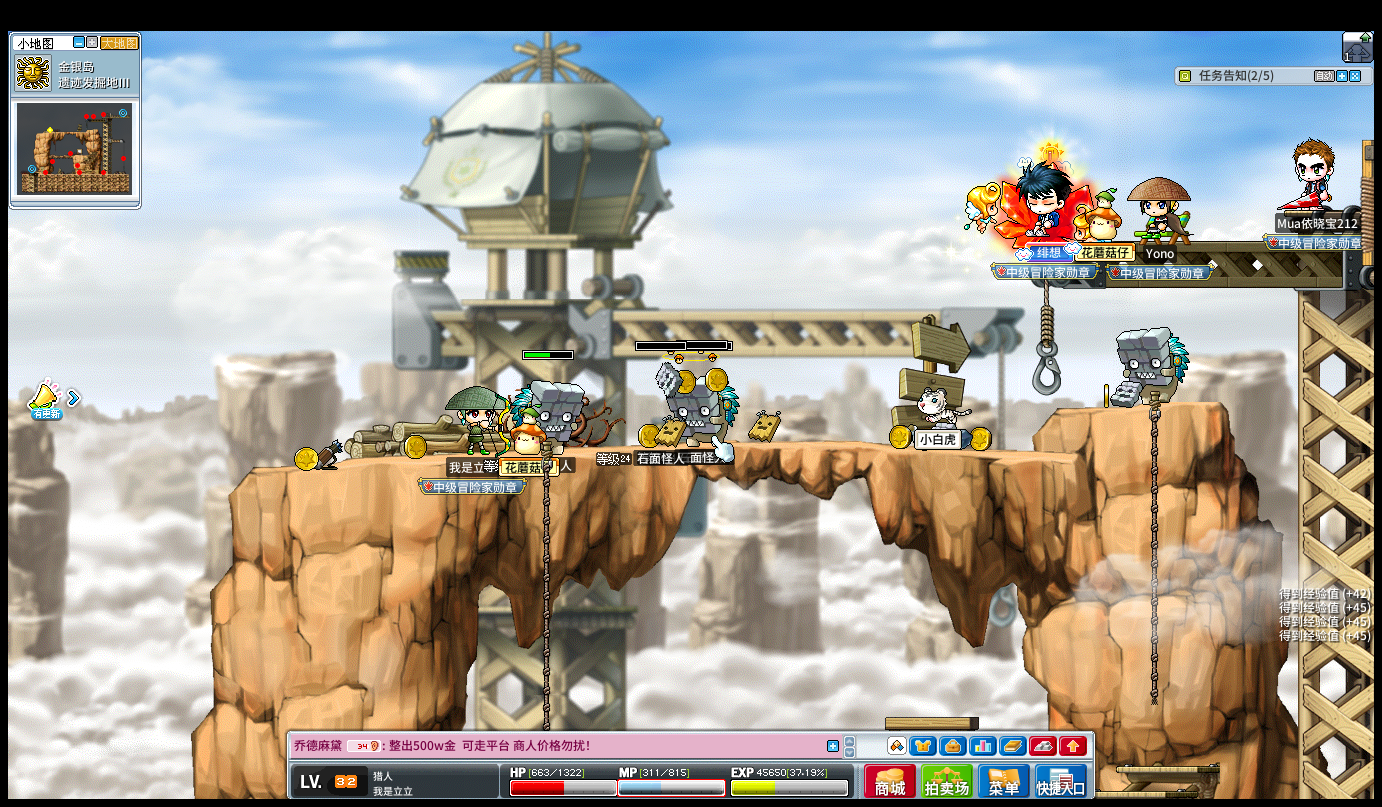floor: (230, 438, 1119, 466), (254, 436, 1141, 458), (1055, 400, 1232, 415), (1114, 764, 1217, 775)
monster: (1115, 326, 1190, 407), (671, 367, 740, 445), (529, 378, 586, 448)
rope: (539, 435, 552, 807), (1146, 390, 1161, 705), (539, 438, 551, 742), (540, 439, 552, 673), (1040, 282, 1053, 355)
